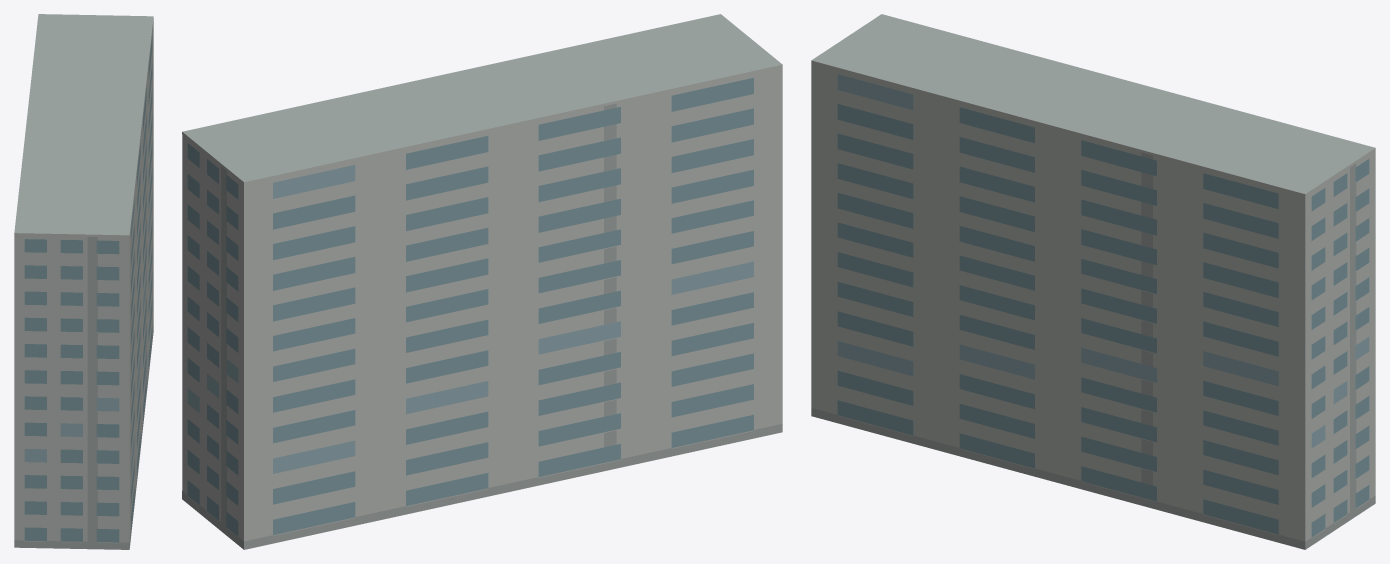
The model's file is residential-5b170680-7265-4bb8-ac3a-2ec2777d5156.glb.
3 views of the same model, side by side, from view 1: azimuth 30°, elevation 25°; view 2: azimuth 150°, elevation 25°; view 3: azimuth 270°, elevation 25° (orthographic). The views are drawn at different scales.
Parts seen in each view (by area): view 1: residential-5b170680-7265-4bb8-ac3a-2ec2777d5156.tmp; view 2: residential-5b170680-7265-4bb8-ac3a-2ec2777d5156.tmp; view 3: residential-5b170680-7265-4bb8-ac3a-2ec2777d5156.tmp.
Boxes of the visible parts, x1=… form: residential-5b170680-7265-4bb8-ac3a-2ec2777d5156.tmp: x1=14, y1=14, x2=153, y2=549; residential-5b170680-7265-4bb8-ac3a-2ec2777d5156.tmp: x1=182, y1=14, x2=782, y2=549; residential-5b170680-7265-4bb8-ac3a-2ec2777d5156.tmp: x1=811, y1=14, x2=1375, y2=549.
Size of the model in its own units: 36.95 by 34 by 48.9.
